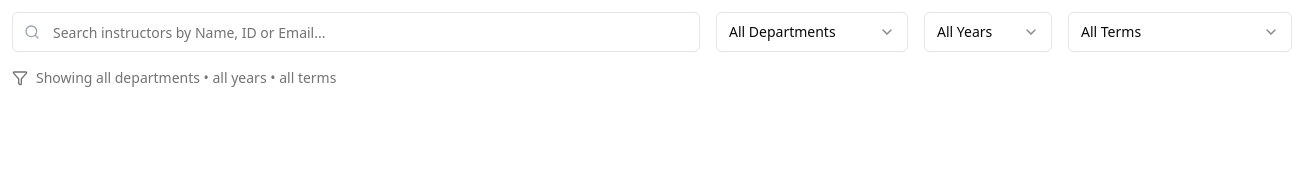
Test: RequirementsFilters › shows year options when clicked
The image size is (1304, 183).
Click the dropdown labelled "All Years": {"x": 988, "y": 32} [924,12,1052,52]
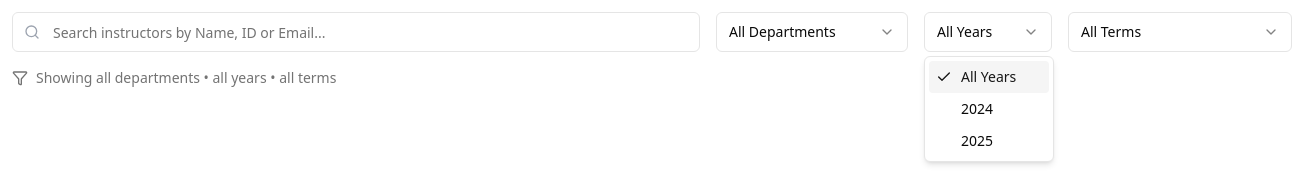
Result: the option "All Years" is shown at [929,61,1049,93]
Result: the option "2024" is shown at [961,99,993,118]
Result: the option "2025" is shown at [961,131,993,150]
